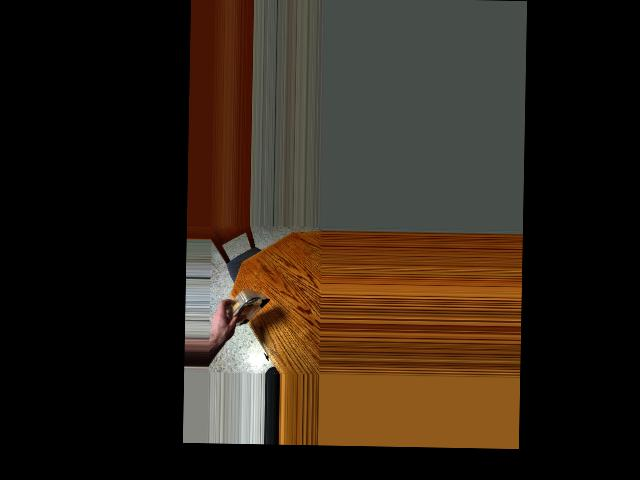cheese: (223, 280, 267, 340)
